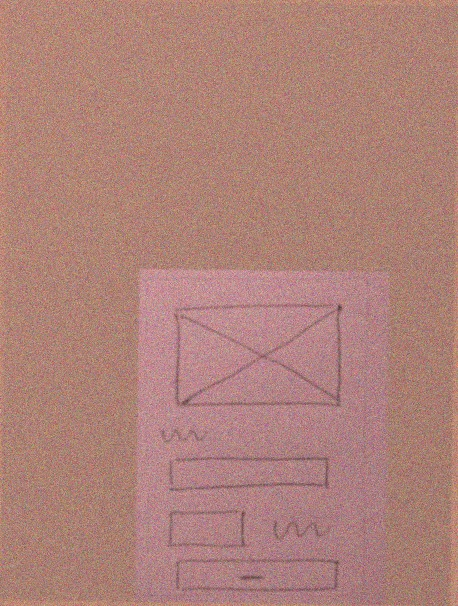button: (170, 555, 345, 594)
image: (169, 299, 348, 412)
text: (266, 513, 336, 547), (157, 422, 210, 448)
text_input: (160, 451, 336, 500), (163, 507, 251, 552)
